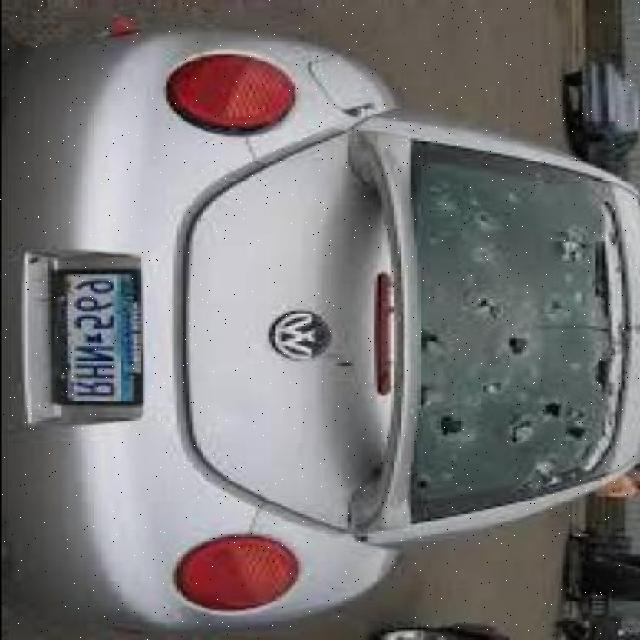damage: (407, 136, 627, 523)
